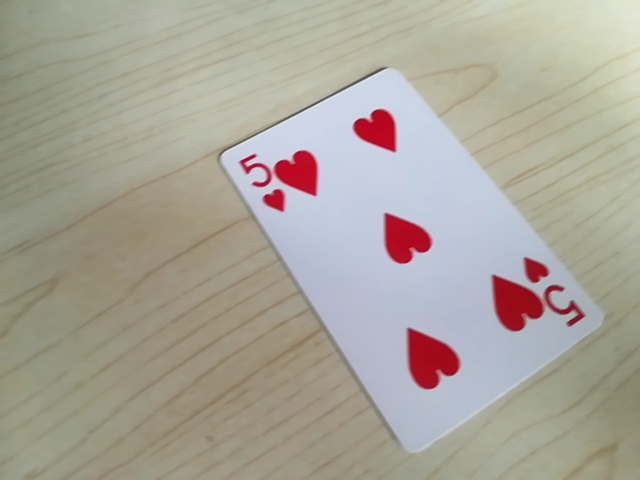hx 5: (525, 257, 586, 331), (235, 150, 299, 216)
